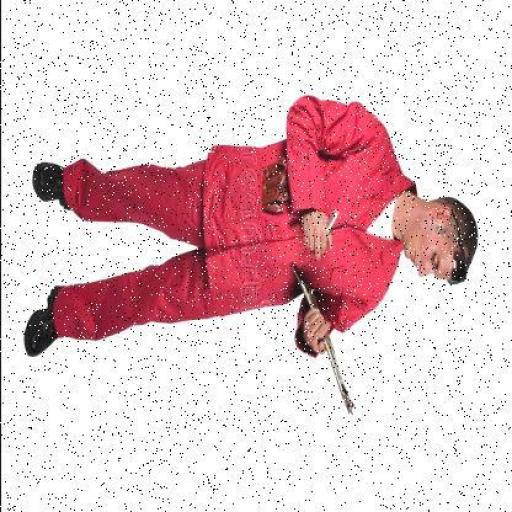person: (9, 92, 497, 363)
safety_shoe: (19, 279, 76, 360), (26, 148, 82, 212)
